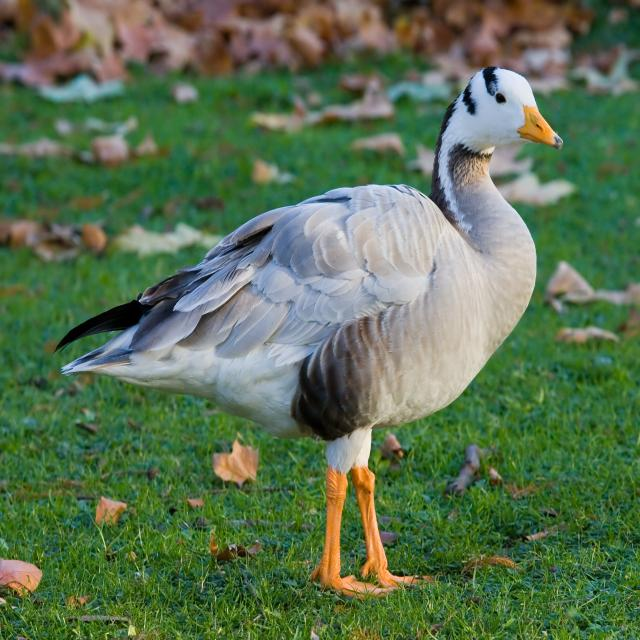Goose: (59, 54, 570, 597)
